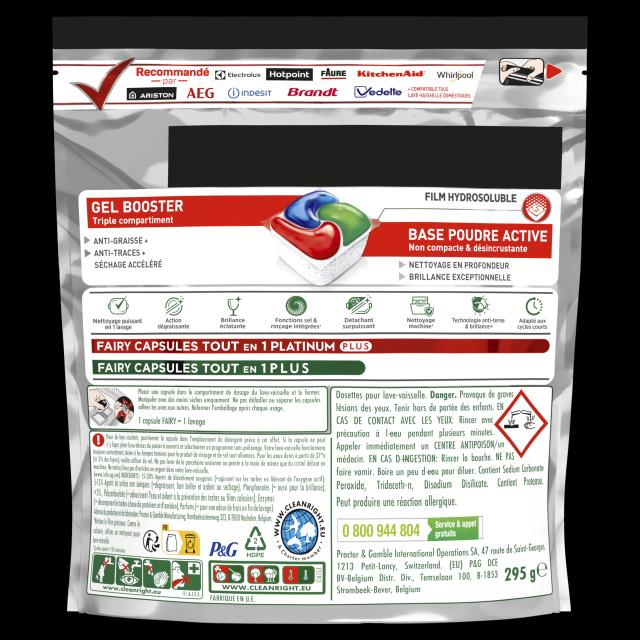GHS_Symbol_CORROSION: (495, 388, 548, 459)
